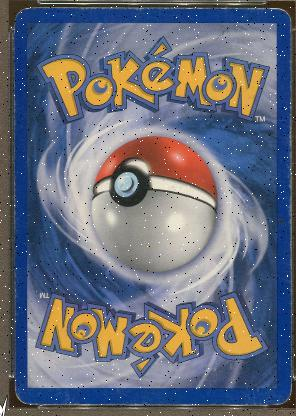Card: (8, 6, 292, 406)
Corner Wear: (13, 382, 40, 406), (266, 4, 290, 23), (12, 8, 30, 32), (273, 384, 291, 404)
Edge Wear: (286, 97, 290, 317), (66, 7, 266, 11), (287, 19, 290, 95), (13, 265, 16, 323), (14, 172, 16, 252), (103, 402, 148, 404)
Scratch: (241, 388, 274, 402), (55, 390, 76, 402), (210, 366, 218, 380), (227, 361, 232, 369)
